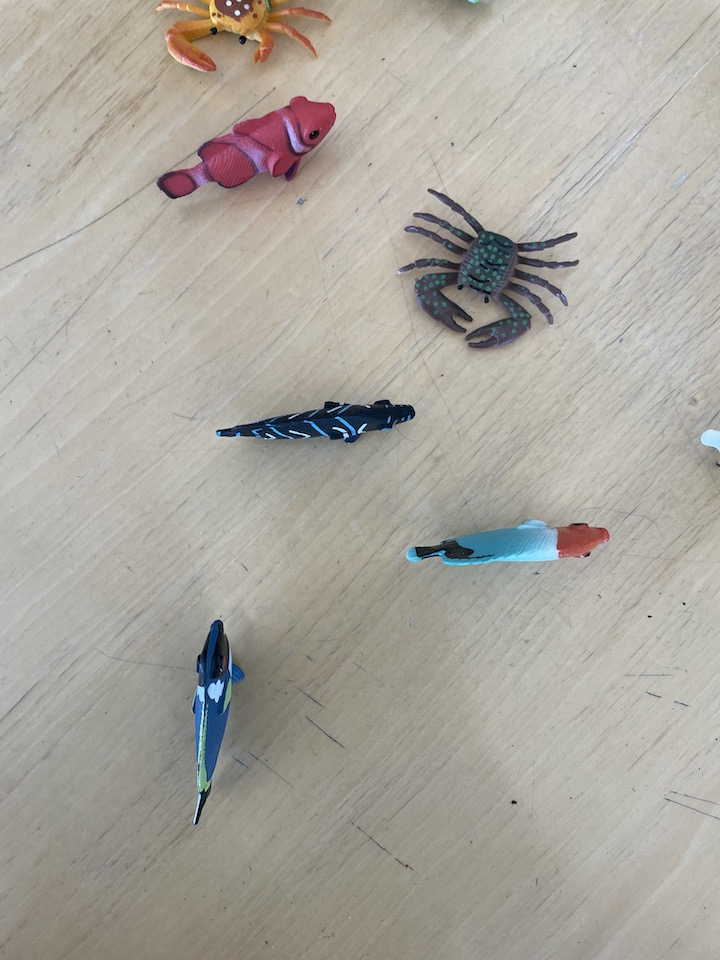crab: (392, 180, 580, 348), (148, 1, 330, 80)
fish: (148, 92, 342, 195), (184, 609, 246, 833), (402, 520, 614, 575), (215, 396, 418, 446)
